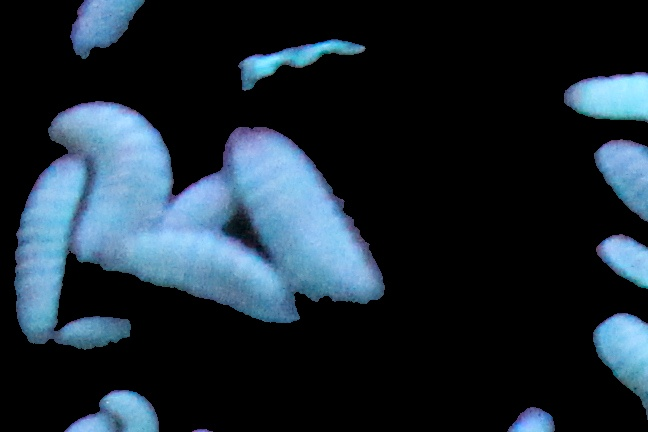larvae: (247, 136, 377, 289), (9, 159, 89, 335), (60, 101, 149, 259), (126, 236, 291, 317), (63, 1, 160, 61), (589, 315, 648, 409), (168, 173, 240, 247), (591, 132, 648, 220), (555, 72, 648, 124), (590, 230, 647, 293), (54, 318, 133, 352), (103, 389, 160, 432)
